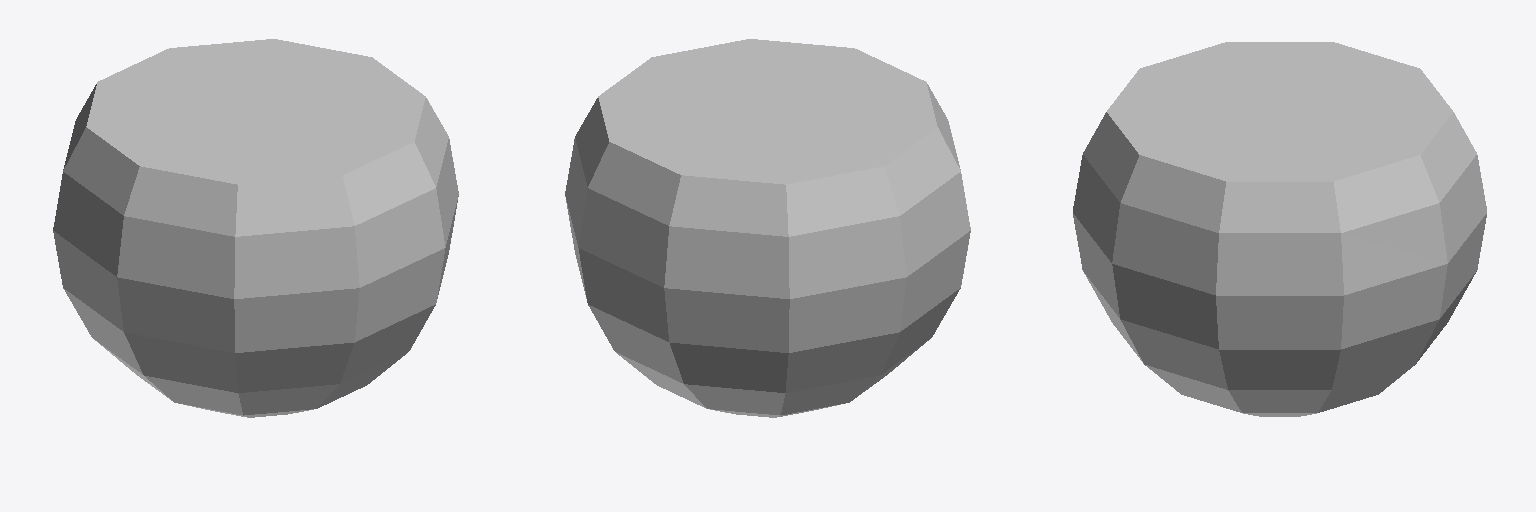
The model's file is MOTL_Player_Head.obj.
3 views of the same model, side by side, from view 1: azimuth 30°, elevation 25°; view 2: azimuth 150°, elevation 25°; view 3: azimuth 270°, elevation 25° (orthographic).
Parts seen in each view (by area): view 1: Sphere; view 2: Sphere; view 3: Sphere.
Boxes of the visible parts, <box> form: Sphere: <box>53,39,458,417</box>; Sphere: <box>565,39,970,417</box>; Sphere: <box>1073,42,1486,416</box>.
Size of the model in its own units: 0.7418 by 0.5982 by 0.78.